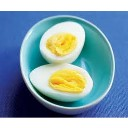begg: (32, 67, 93, 97), (41, 21, 84, 61)
